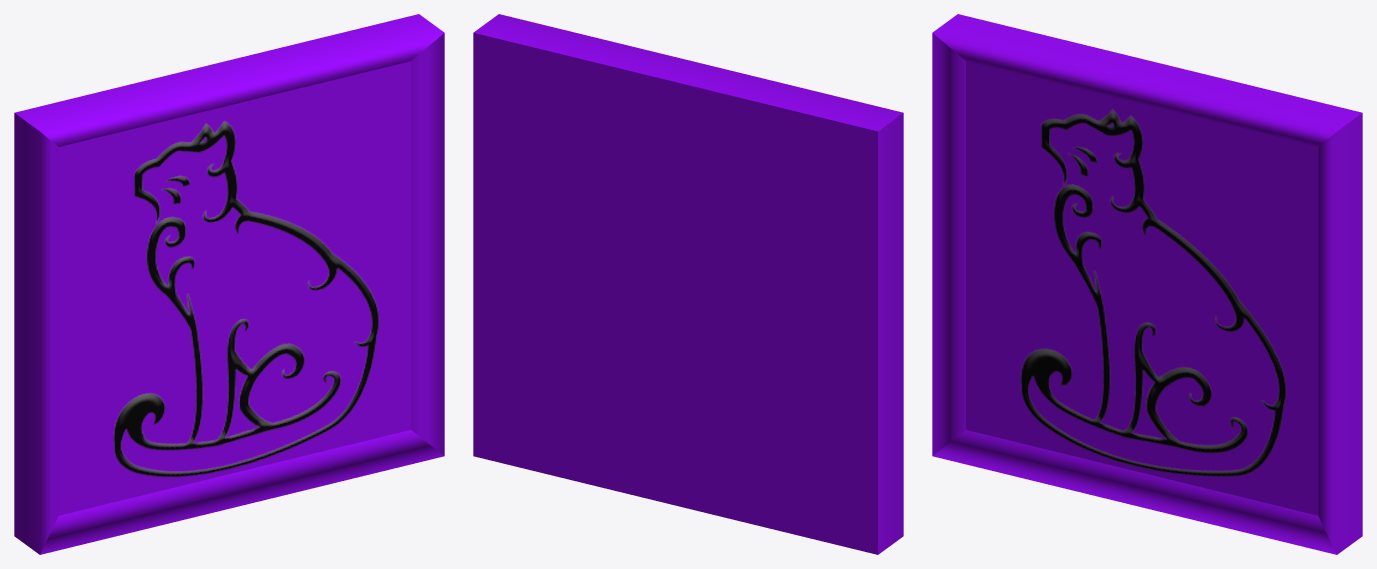
File: Purple Cat.fbx
3 views of the same model, side by side, from view 1: azimuth 30°, elevation 25°; view 2: azimuth 150°, elevation 25°; view 3: azimuth 330°, elevation 25° (orthographic).
Parts seen in each view (by area): view 1: pCube1; view 2: pCube1; view 3: pCube1.
Part boxes in pixels (x1,y1,x2,y2): pCube1: (14, 14, 444, 554); pCube1: (473, 14, 903, 554); pCube1: (932, 14, 1362, 554).
Bounding box in the file's own units: 3 × 3 × 0.3283.
Materials: 1 (1 with a texture image).
